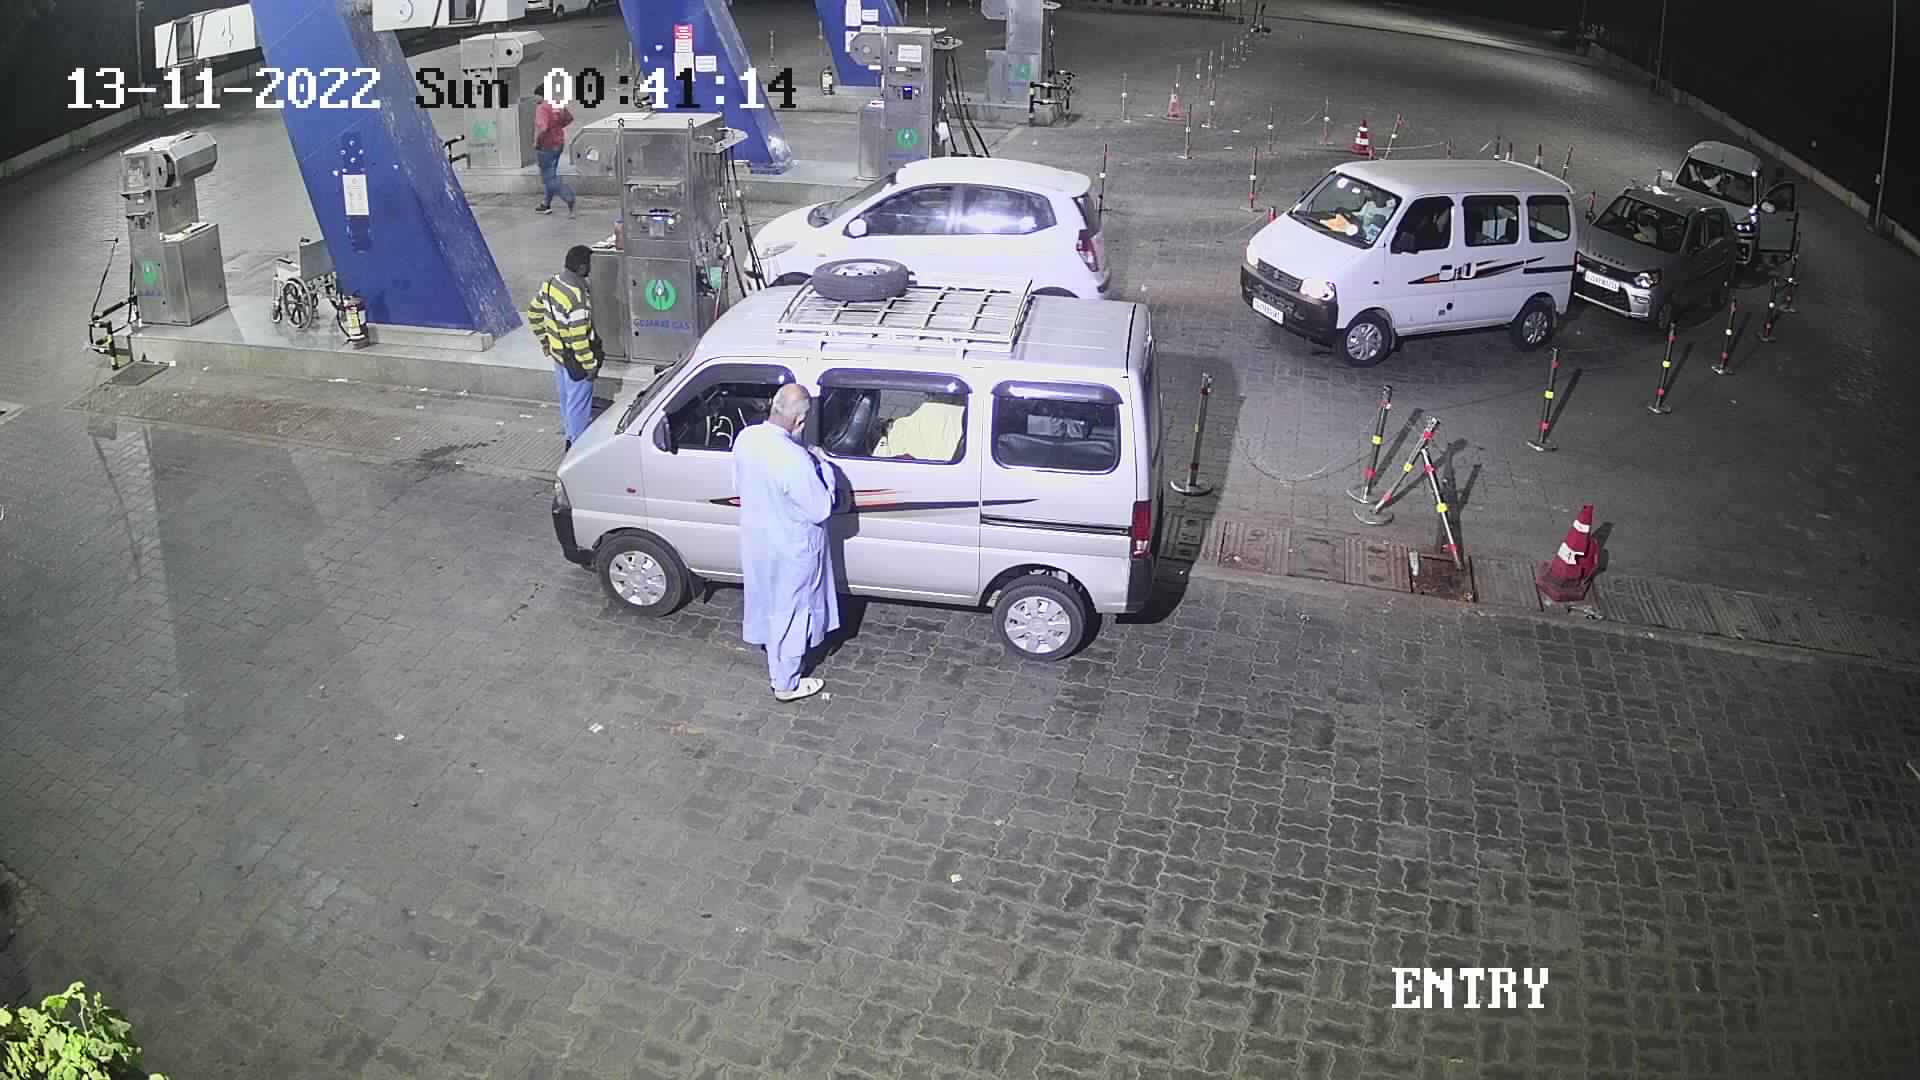Car: (539, 252, 1172, 671), (1233, 144, 1586, 361), (731, 149, 1120, 313), (1565, 166, 1751, 345), (1656, 133, 1804, 286)
